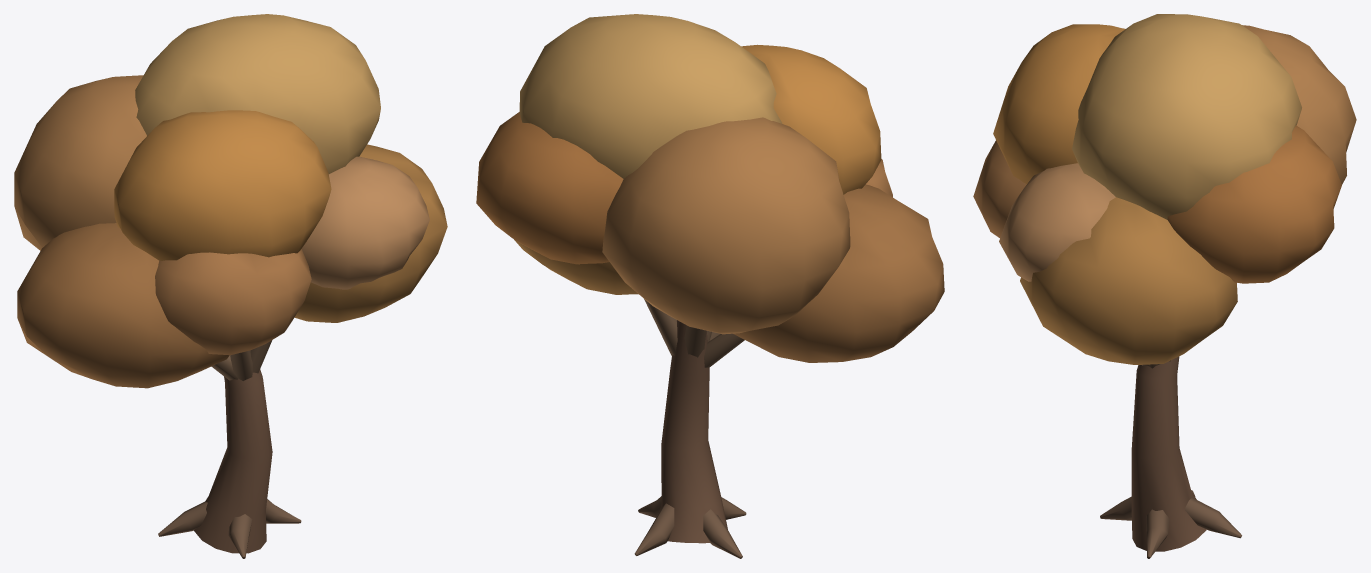
The model's file is golden_tree.glb.
3 renders of one model, left to right at view 1: azimuth 30°, elevation 25°; view 2: azimuth 150°, elevation 25°; view 3: azimuth 270°, elevation 25°, orthographic. The views are drawn at different scales.
Parts seen in each view (by area): view 1: Golden_tree; view 2: Golden_tree; view 3: Golden_tree.
Part boxes in pixels (x1,y1,x2,y2): Golden_tree: (14,14,447,558); Golden_tree: (476,14,944,558); Golden_tree: (973,14,1356,558).
Bounding box in the file's own units: 3.77 × 4.48 × 2.96.
